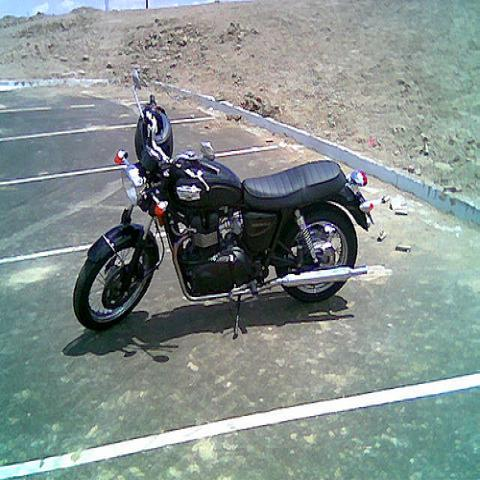motorcycle: (69, 71, 375, 340)
